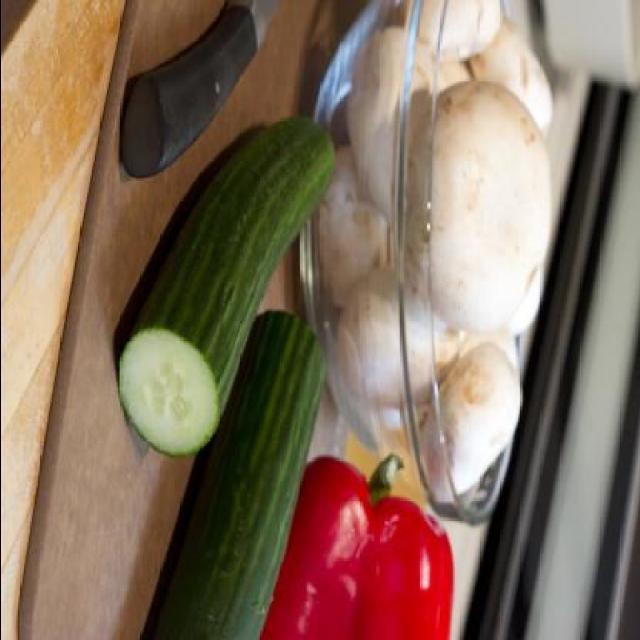Cucumber: (116, 115, 334, 453), (151, 304, 329, 640)
